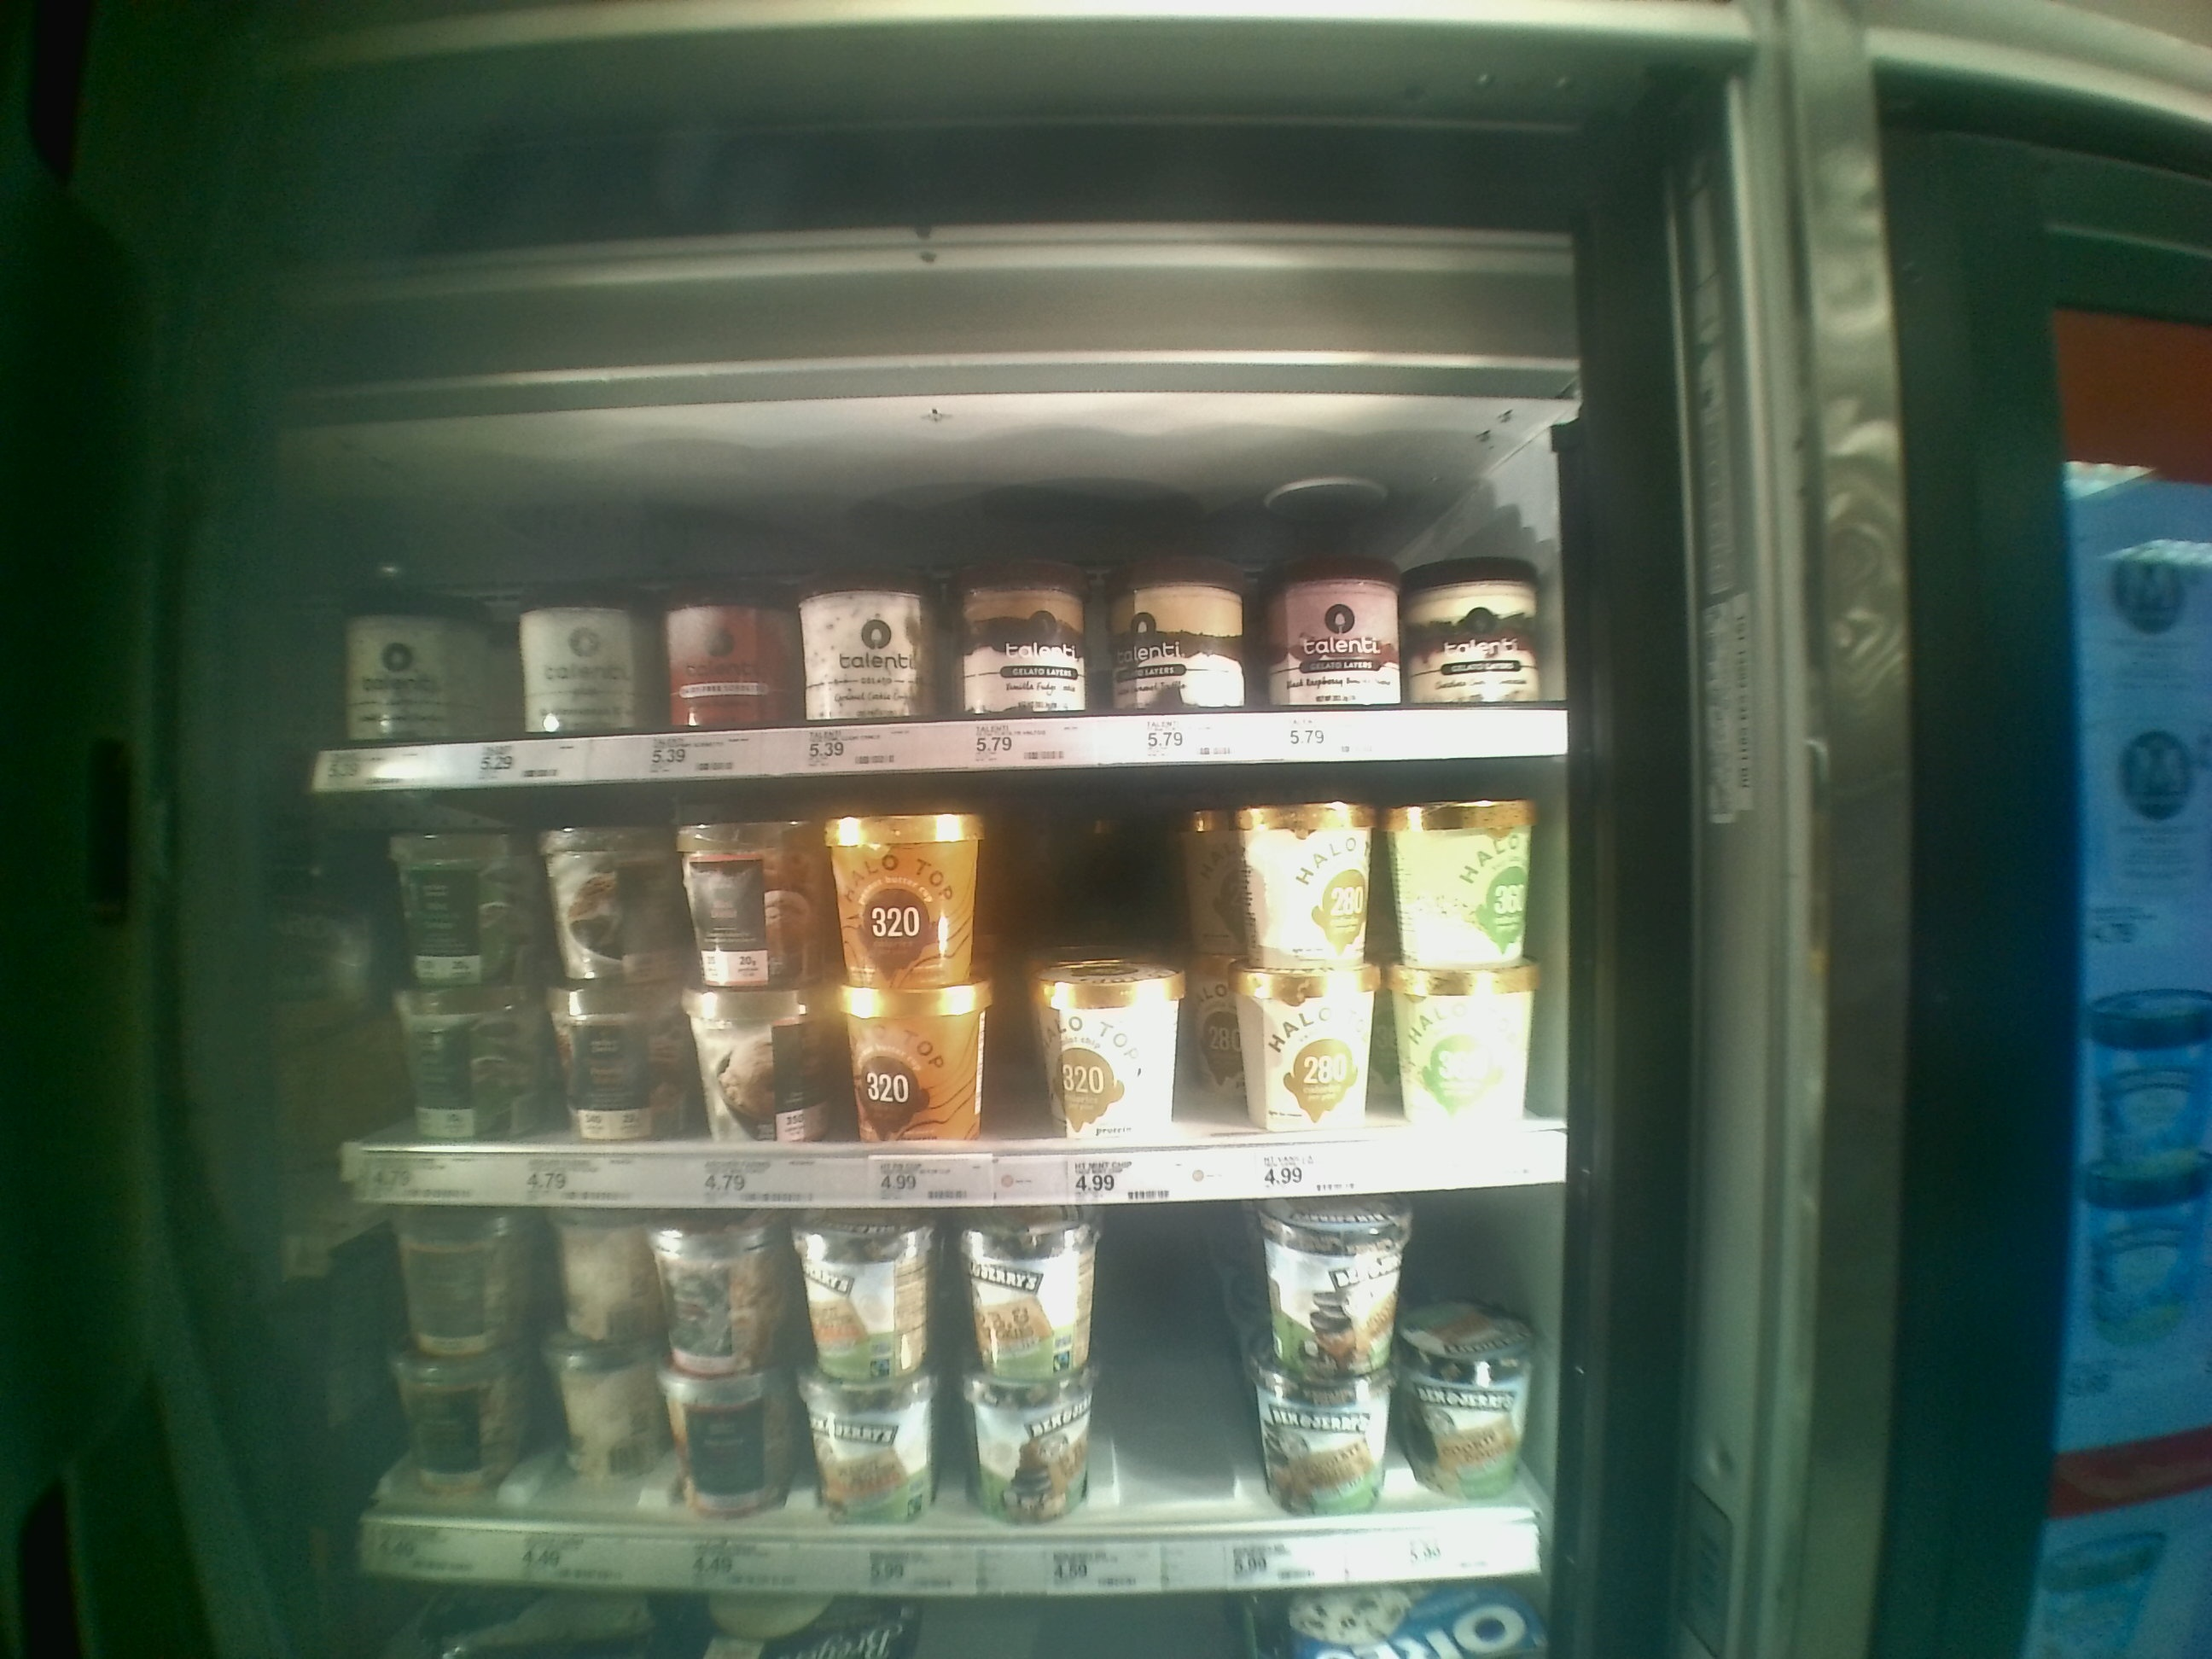ice-cream-shelf: (301, 772, 1571, 1194), (291, 1206, 1555, 1589), (303, 488, 1575, 769)
